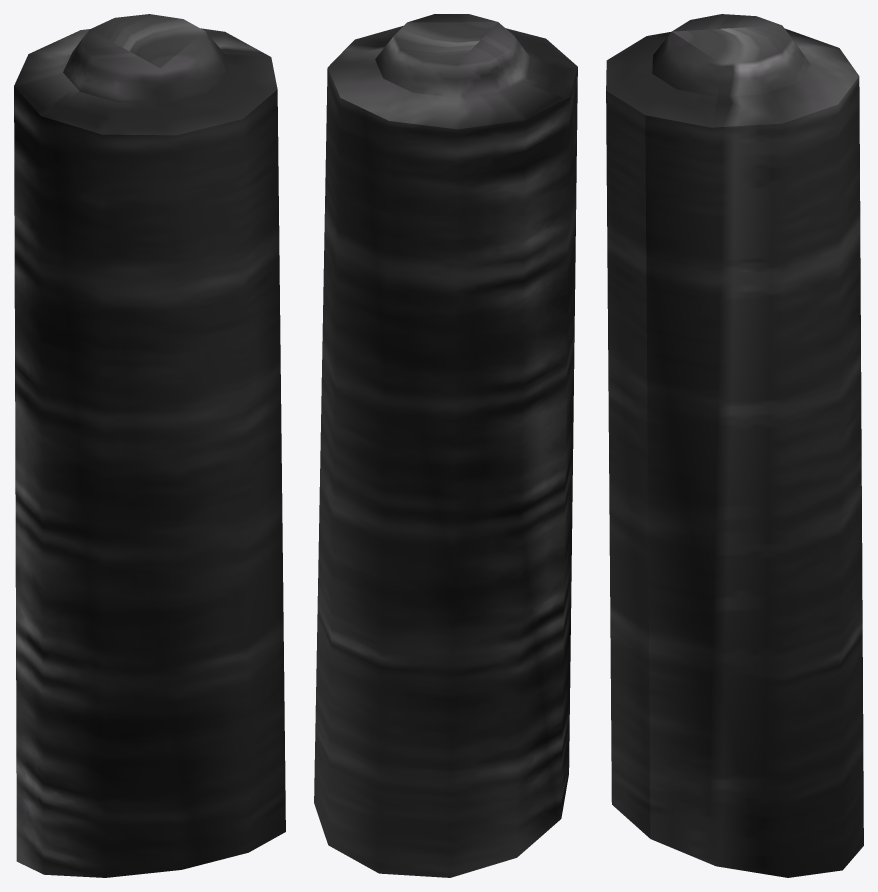
Rendered from det_3rd.glb.
The picture shows the model from 3 angles, left to right: view 1: azimuth 30°, elevation 25°; view 2: azimuth 150°, elevation 25°; view 3: azimuth 270°, elevation 25°; orthographic projection. The views are drawn at different scales.
Visible parts, largest first — view 1: _det_3rd; view 2: _det_3rd; view 3: _det_3rd.
Part boxes in pixels (left/top/right/bottom): _det_3rd: left=14, top=14, right=285, bottom=877; _det_3rd: left=314, top=14, right=577, bottom=877; _det_3rd: left=606, top=14, right=863, bottom=877.
Bounding box in the file's own units: 0.0415 × 0.1378 × 0.0401.
Materials: 2 (2 with a texture image).
